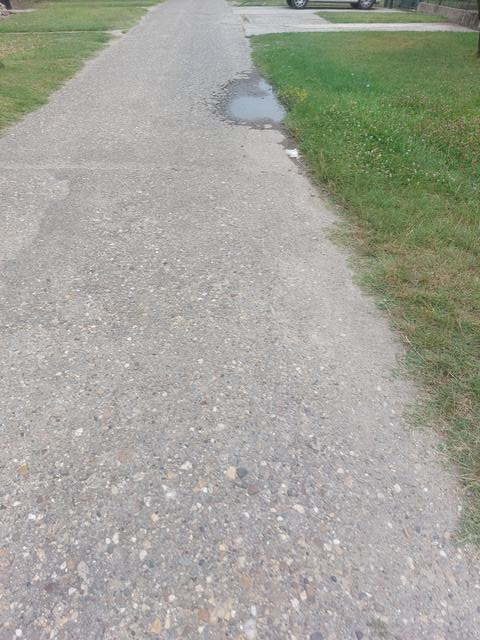pothole: (213, 66, 292, 146)
